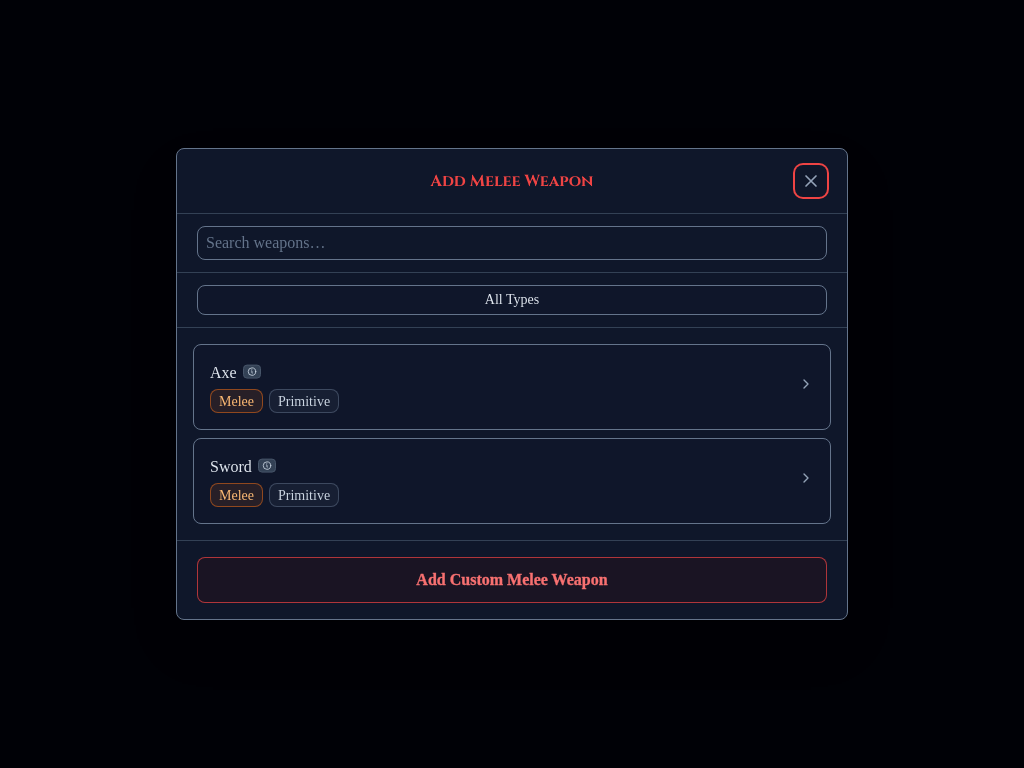
MeleePicker › returns to the list when the back button is clicked
Click the button named "Select Sword": x=512, y=481 [194,439,830,523]
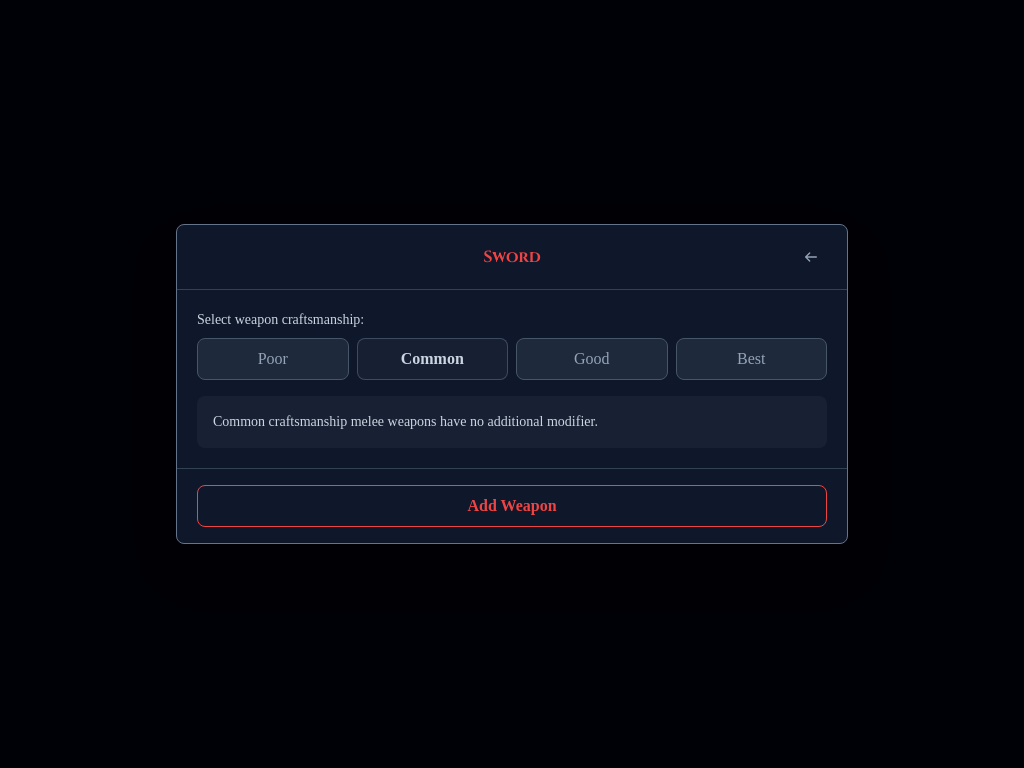
Expected: the button "Add Weapon" is shown, [197,485,827,527]
Click the button named "Back": x=811, y=257 [795,241,827,273]
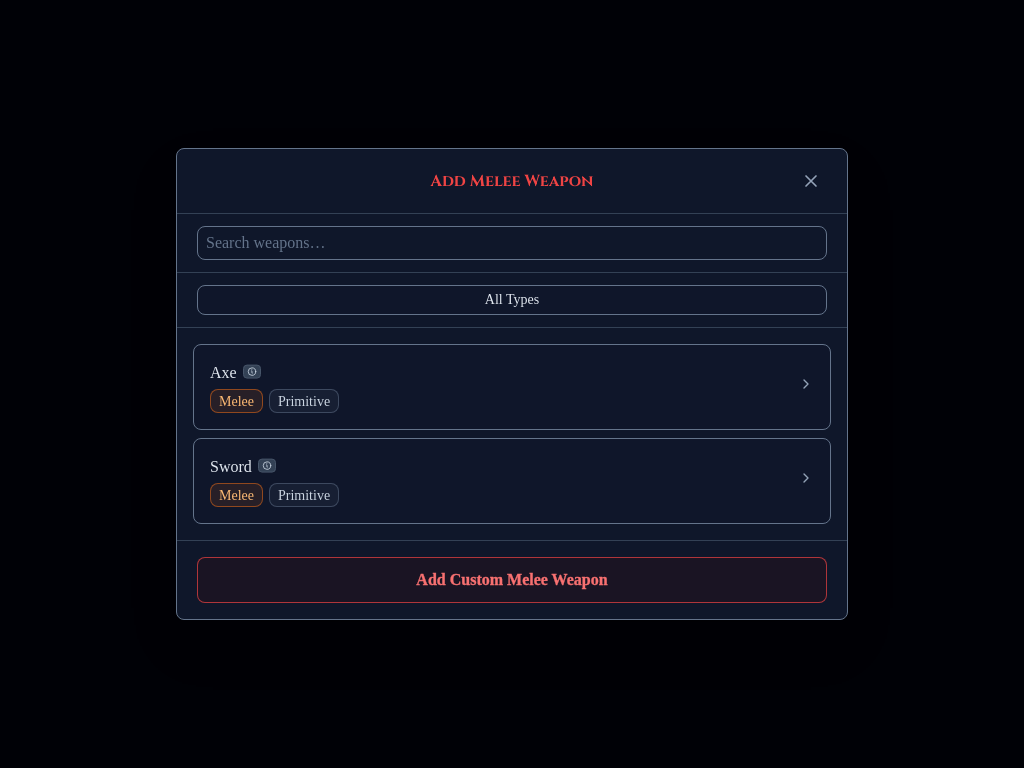
Expected: the search field with placeholder "Search weapons…" is shown, [197,226,827,260]
Expected: the text "Axe" is shown, [210,361,237,385]
